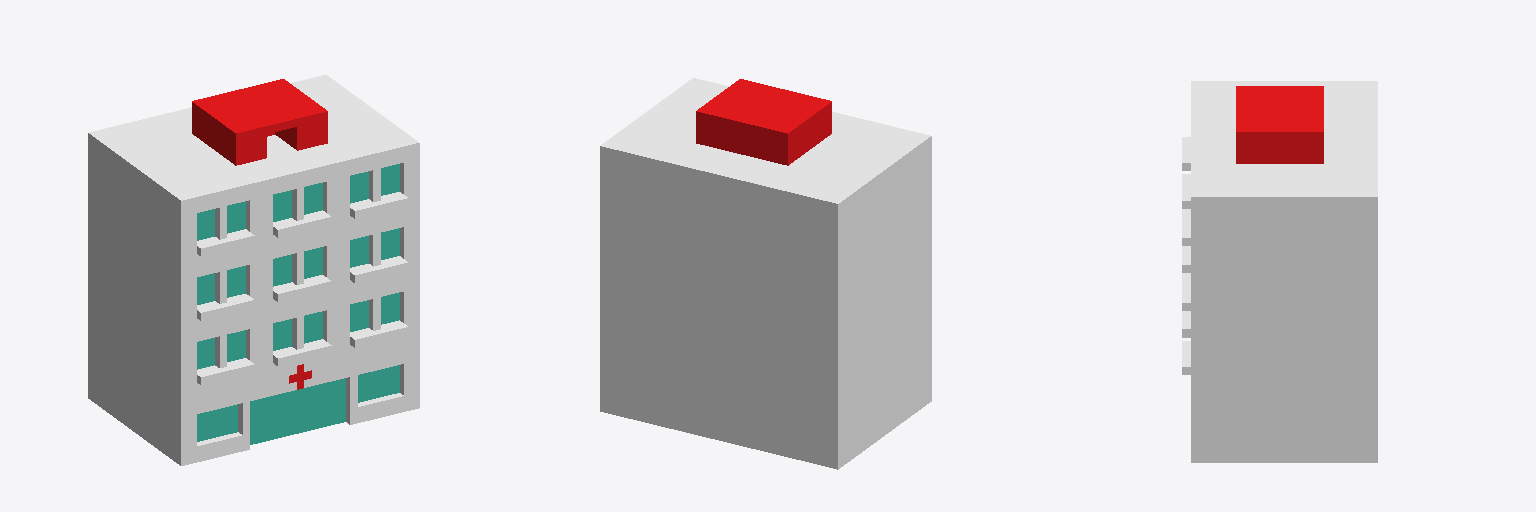
The picture shows the model from 3 angles: view 1: azimuth 30°, elevation 25°; view 2: azimuth 150°, elevation 25°; view 3: azimuth 270°, elevation 25°; orthographic projection.
Visible parts, largest first — view 1: GGJ2019_Hotel; view 2: GGJ2019_Hotel; view 3: GGJ2019_Hotel.
Boxes of the visible parts, <box> form: GGJ2019_Hotel: <box>88,75,419,465</box>; GGJ2019_Hotel: <box>600,78,931,469</box>; GGJ2019_Hotel: <box>1182,81,1377,462</box>.
Size of the model in its own units: 31 by 37 by 22.
1 materials, 1 textured.